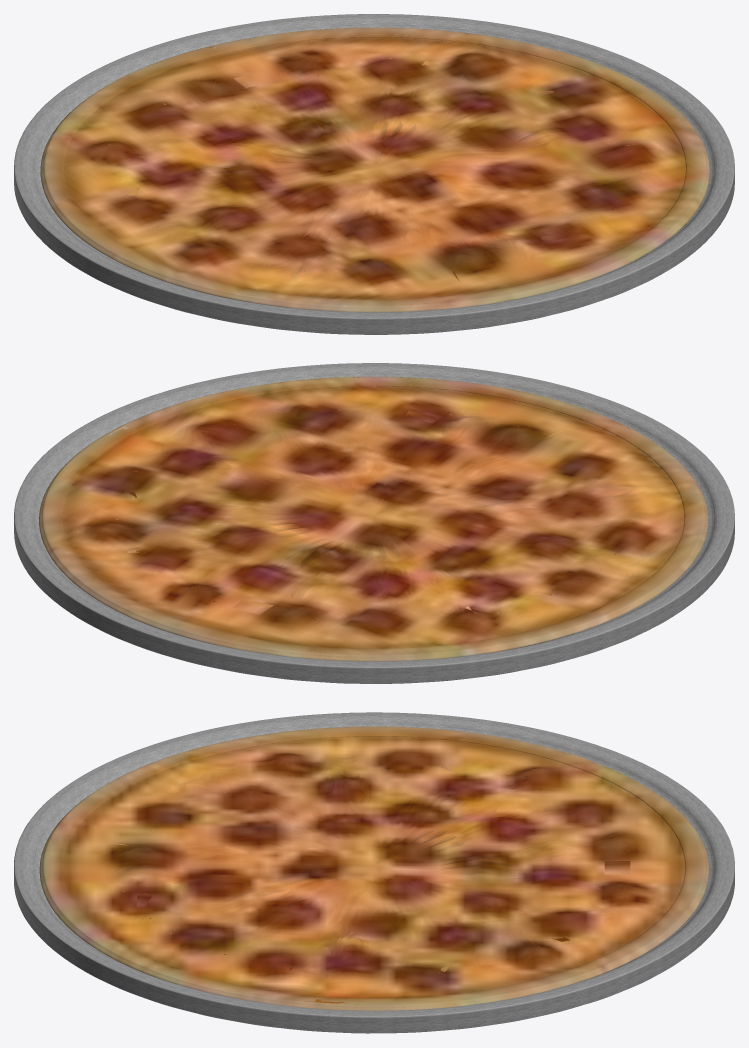
Rendered from pizza.glb.
The picture shows the model from 3 angles, top to bottom: view 1: azimuth 30°, elevation 25°; view 2: azimuth 150°, elevation 25°; view 3: azimuth 270°, elevation 25°; orthographic projection.
Parts seen in each view (by area): view 1: Object_4.004, Object_5.004, Object_7.004, Object_2.006, Object_3.004, Object_6.007; view 2: Object_4.004, Object_5.004, Object_7.004, Object_2.006, Object_3.004, Object_6.007; view 3: Object_4.004, Object_5.004, Object_7.004, Object_2.006, Object_3.004, Object_6.007.
Part boxes in pixels (x1,y1,x2,y2): Object_4.004: [40, 43, 709, 312]; Object_5.004: [47, 37, 702, 305]; Object_7.004: [14, 14, 734, 334]; Object_2.006: [46, 27, 707, 308]; Object_3.004: [40, 34, 708, 308]; Object_6.007: [43, 28, 674, 299]; Object_4.004: [42, 376, 706, 661]; Object_5.004: [63, 377, 701, 654]; Object_7.004: [14, 363, 734, 683]; Object_2.006: [39, 376, 705, 657]; Object_3.004: [39, 377, 708, 657]; Object_6.007: [44, 411, 663, 654]; Object_4.004: [39, 733, 709, 1010]; Object_5.004: [46, 727, 701, 1002]; Object_7.004: [14, 712, 734, 1033]; Object_2.006: [43, 726, 706, 1007]; Object_3.004: [40, 727, 709, 1007]; Object_6.007: [65, 731, 701, 1007].
Bounding box in the file's own units: 19.54 × 0.6297 × 19.54.
Materials: 2 (2 with a texture image).
